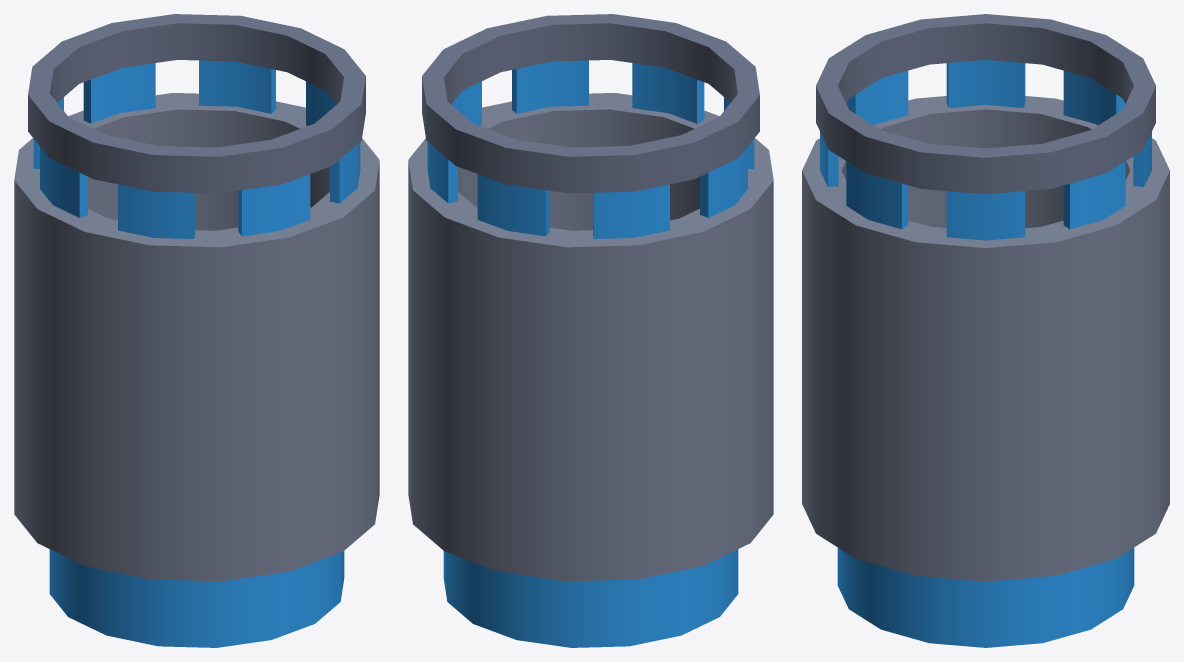
The model's file is Musorka.fbx.
3 views of the same model, side by side, from view 1: azimuth 30°, elevation 25°; view 2: azimuth 150°, elevation 25°; view 3: azimuth 270°, elevation 25° (orthographic).
Parts seen in each view (by area): view 1: Musorka; view 2: Musorka; view 3: Musorka.
Boxes of the visible parts, x1,y1,x2,y2 form: Musorka: (14, 14, 379, 647); Musorka: (408, 14, 773, 647); Musorka: (802, 14, 1169, 647).
Bounding box in the file's own units: 0.5107 × 0.7647 × 0.5107.
Materials: 1 (1 with a texture image).
